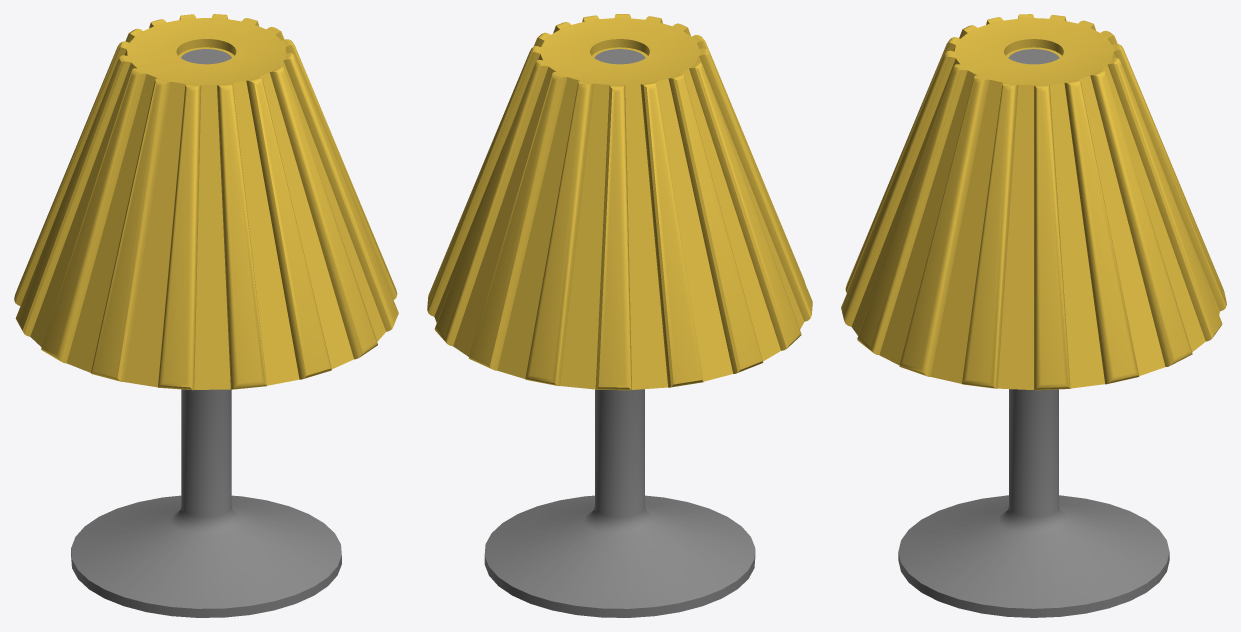
File: Lamp.fbx
3 renders of one model, left to right at view 1: azimuth 30°, elevation 25°; view 2: azimuth 150°, elevation 25°; view 3: azimuth 270°, elevation 25°, orthographic.
Parts seen in each view (by area): view 1: Cylinder.001; view 2: Cylinder.001; view 3: Cylinder.001.
Boxes of the visible parts, <box> form: Cylinder.001: <box>14,14,398,617</box>; Cylinder.001: <box>427,14,812,617</box>; Cylinder.001: <box>841,14,1226,617</box>.
Bounding box in the file's own units: 269 × 393 × 269.
